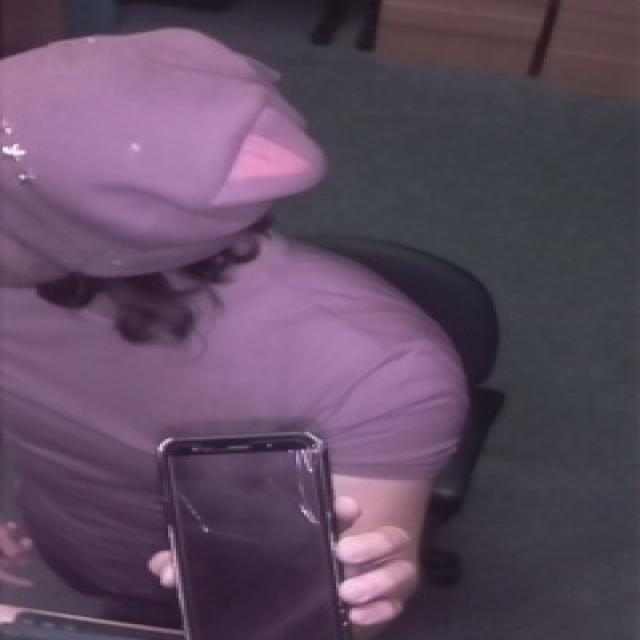phone: (147, 410, 366, 640)
